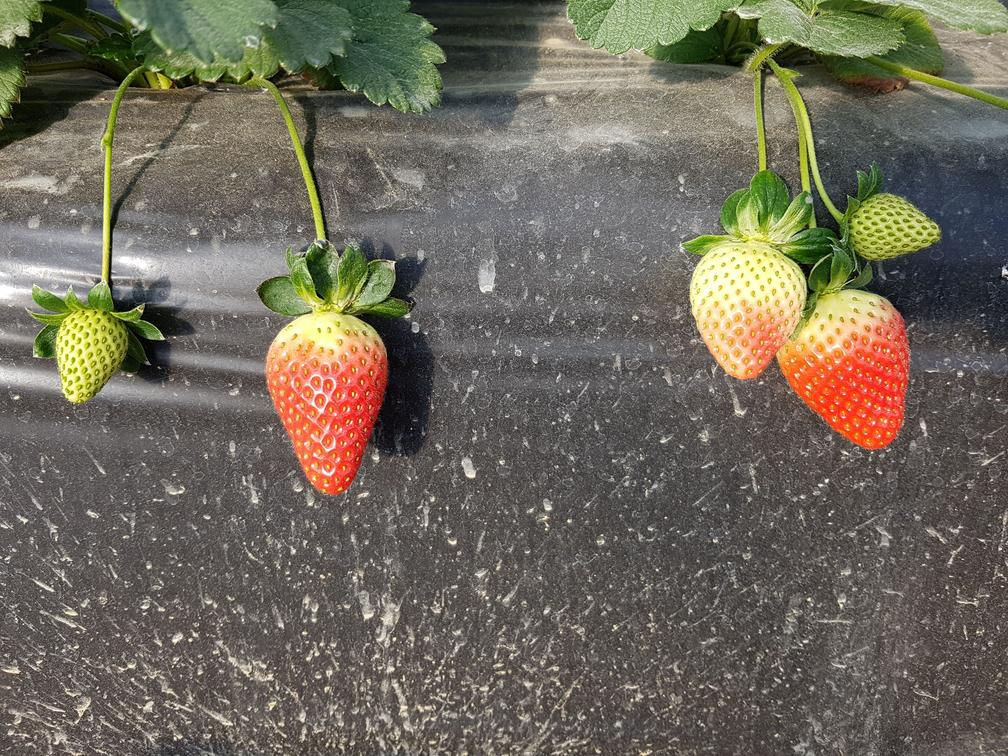Ripe: (258, 305, 397, 500), (791, 304, 917, 454)
Unripe: (685, 237, 812, 386), (55, 308, 139, 414), (854, 192, 945, 261)
